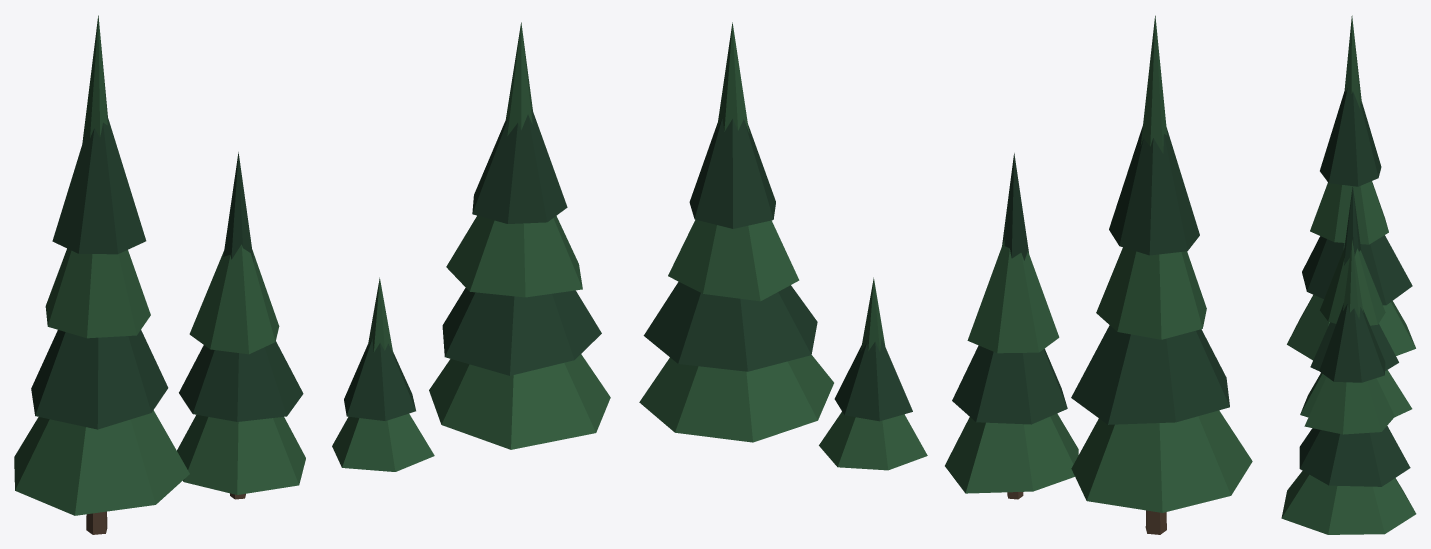
Rendered from conifers.glb.
3 views of the same model, side by side, from view 1: azimuth 30°, elevation 25°; view 2: azimuth 150°, elevation 25°; view 3: azimuth 270°, elevation 25° (orthographic). The views are drawn at different scales.
Parts seen in each view (by area): view 1: conifer_a_boughs, conifer_d_boughs, conifer_b_boughs, conifer_c_boughs; view 2: conifer_a_boughs, conifer_d_boughs, conifer_b_boughs, conifer_c_boughs; view 3: conifer_d_boughs, conifer_a_boughs, conifer_b_boughs.
Boxes of the visible parts, box(x1,y1,x2,y2) form: conifer_a_boughs: box(14, 15, 189, 515); conifer_d_boughs: box(429, 22, 610, 449); conifer_b_boughs: box(177, 152, 305, 494); conifer_c_boughs: box(332, 277, 434, 471); conifer_a_boughs: box(1071, 15, 1252, 512); conifer_d_boughs: box(639, 22, 833, 442); conifer_b_boughs: box(945, 153, 1078, 493); conifer_c_boughs: box(819, 277, 927, 470); conifer_d_boughs: box(1281, 239, 1416, 534); conifer_a_boughs: box(1287, 15, 1415, 360); conifer_b_boughs: box(1300, 186, 1412, 417).
Bounding box in the file's own units: 24.47 × 21 × 7.01.
